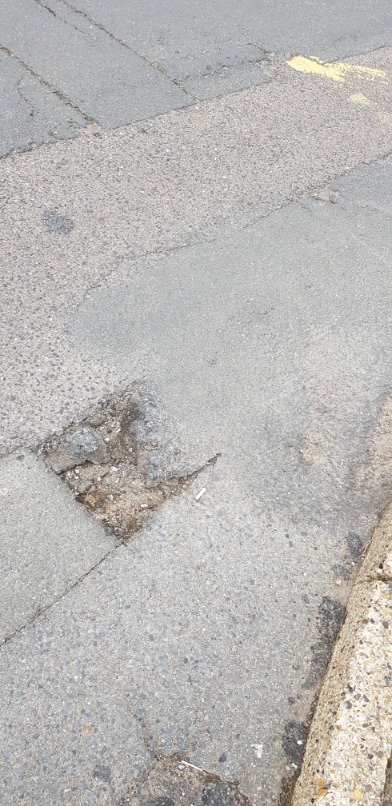pothole: (26, 377, 214, 546)
